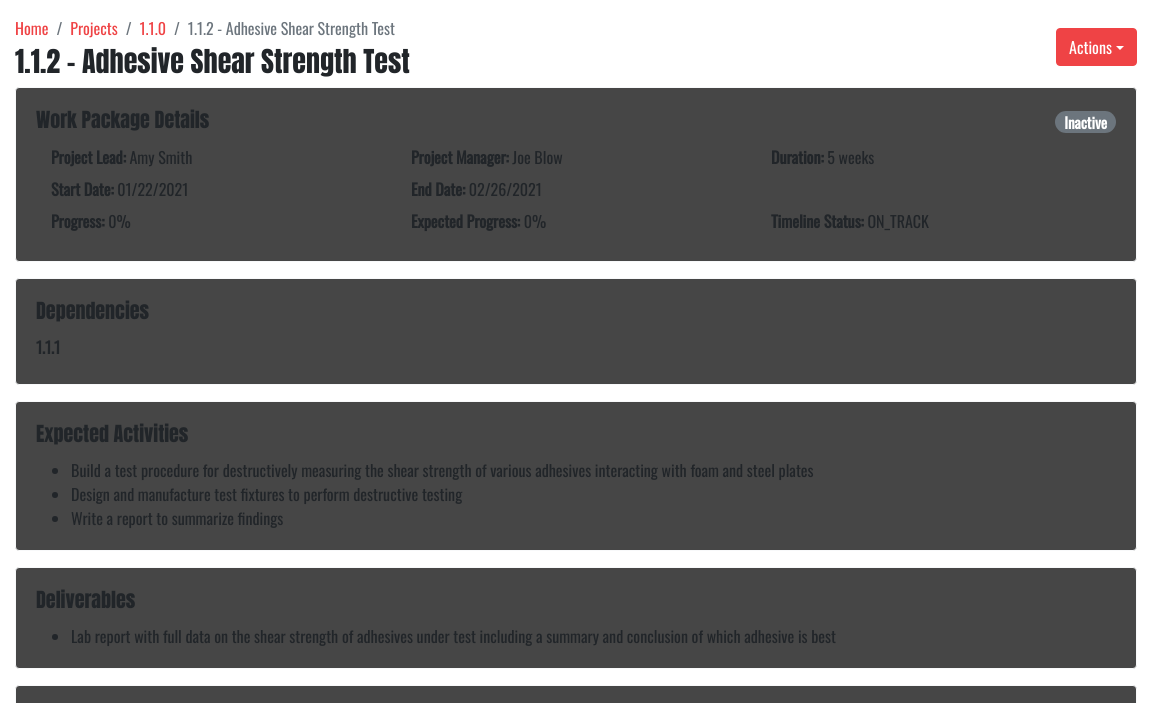
work package container view › disables edit button when not allowed
This screenshot has width=1152, height=703.
Click the button "Actions": (1097, 47) x1=1056 y1=28 x2=1137 y2=66
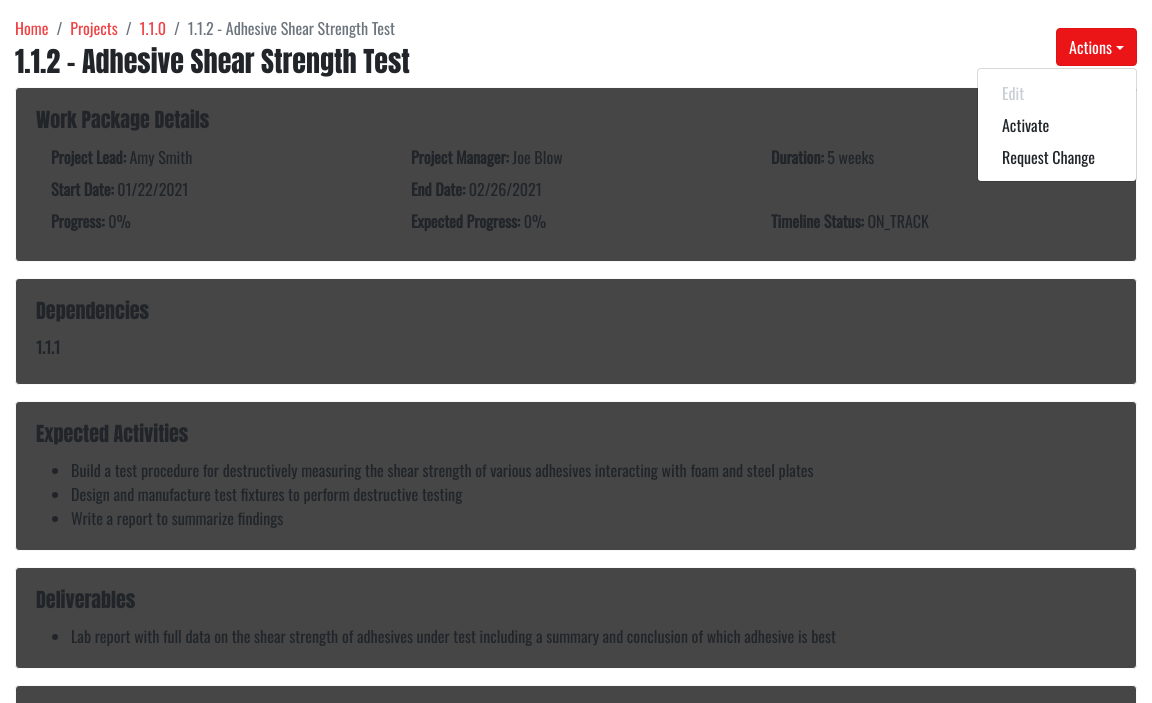
Check: the button "Edit" is disabled, box x1=978 y1=77 x2=1136 y2=109
